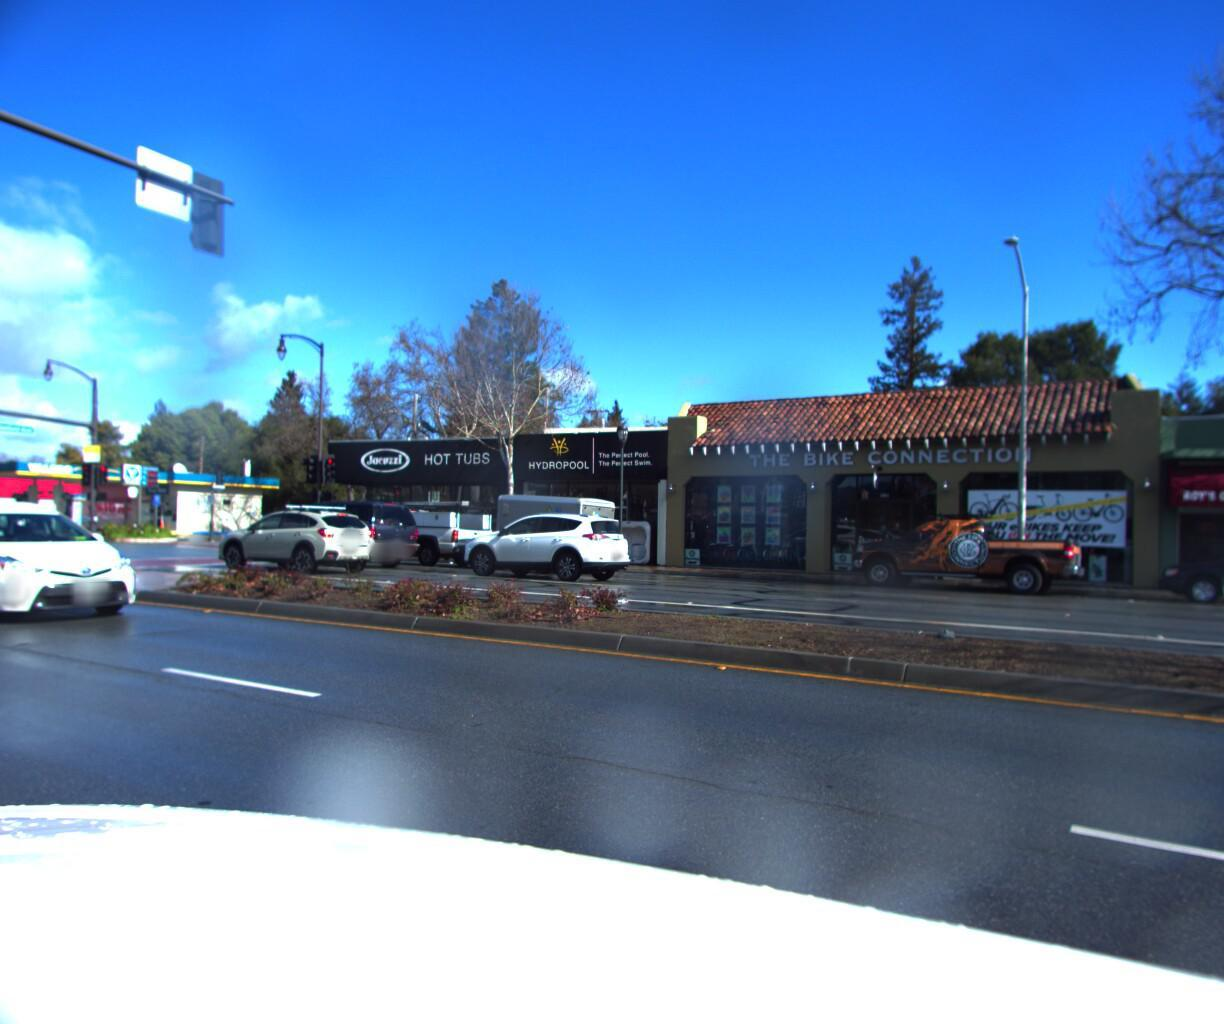car: (838, 507, 1084, 602), (0, 499, 154, 631), (200, 504, 403, 578), (451, 513, 646, 584), (320, 499, 498, 573), (246, 500, 420, 573), (1144, 530, 1224, 612)
other_vehicle: (450, 490, 627, 579)
